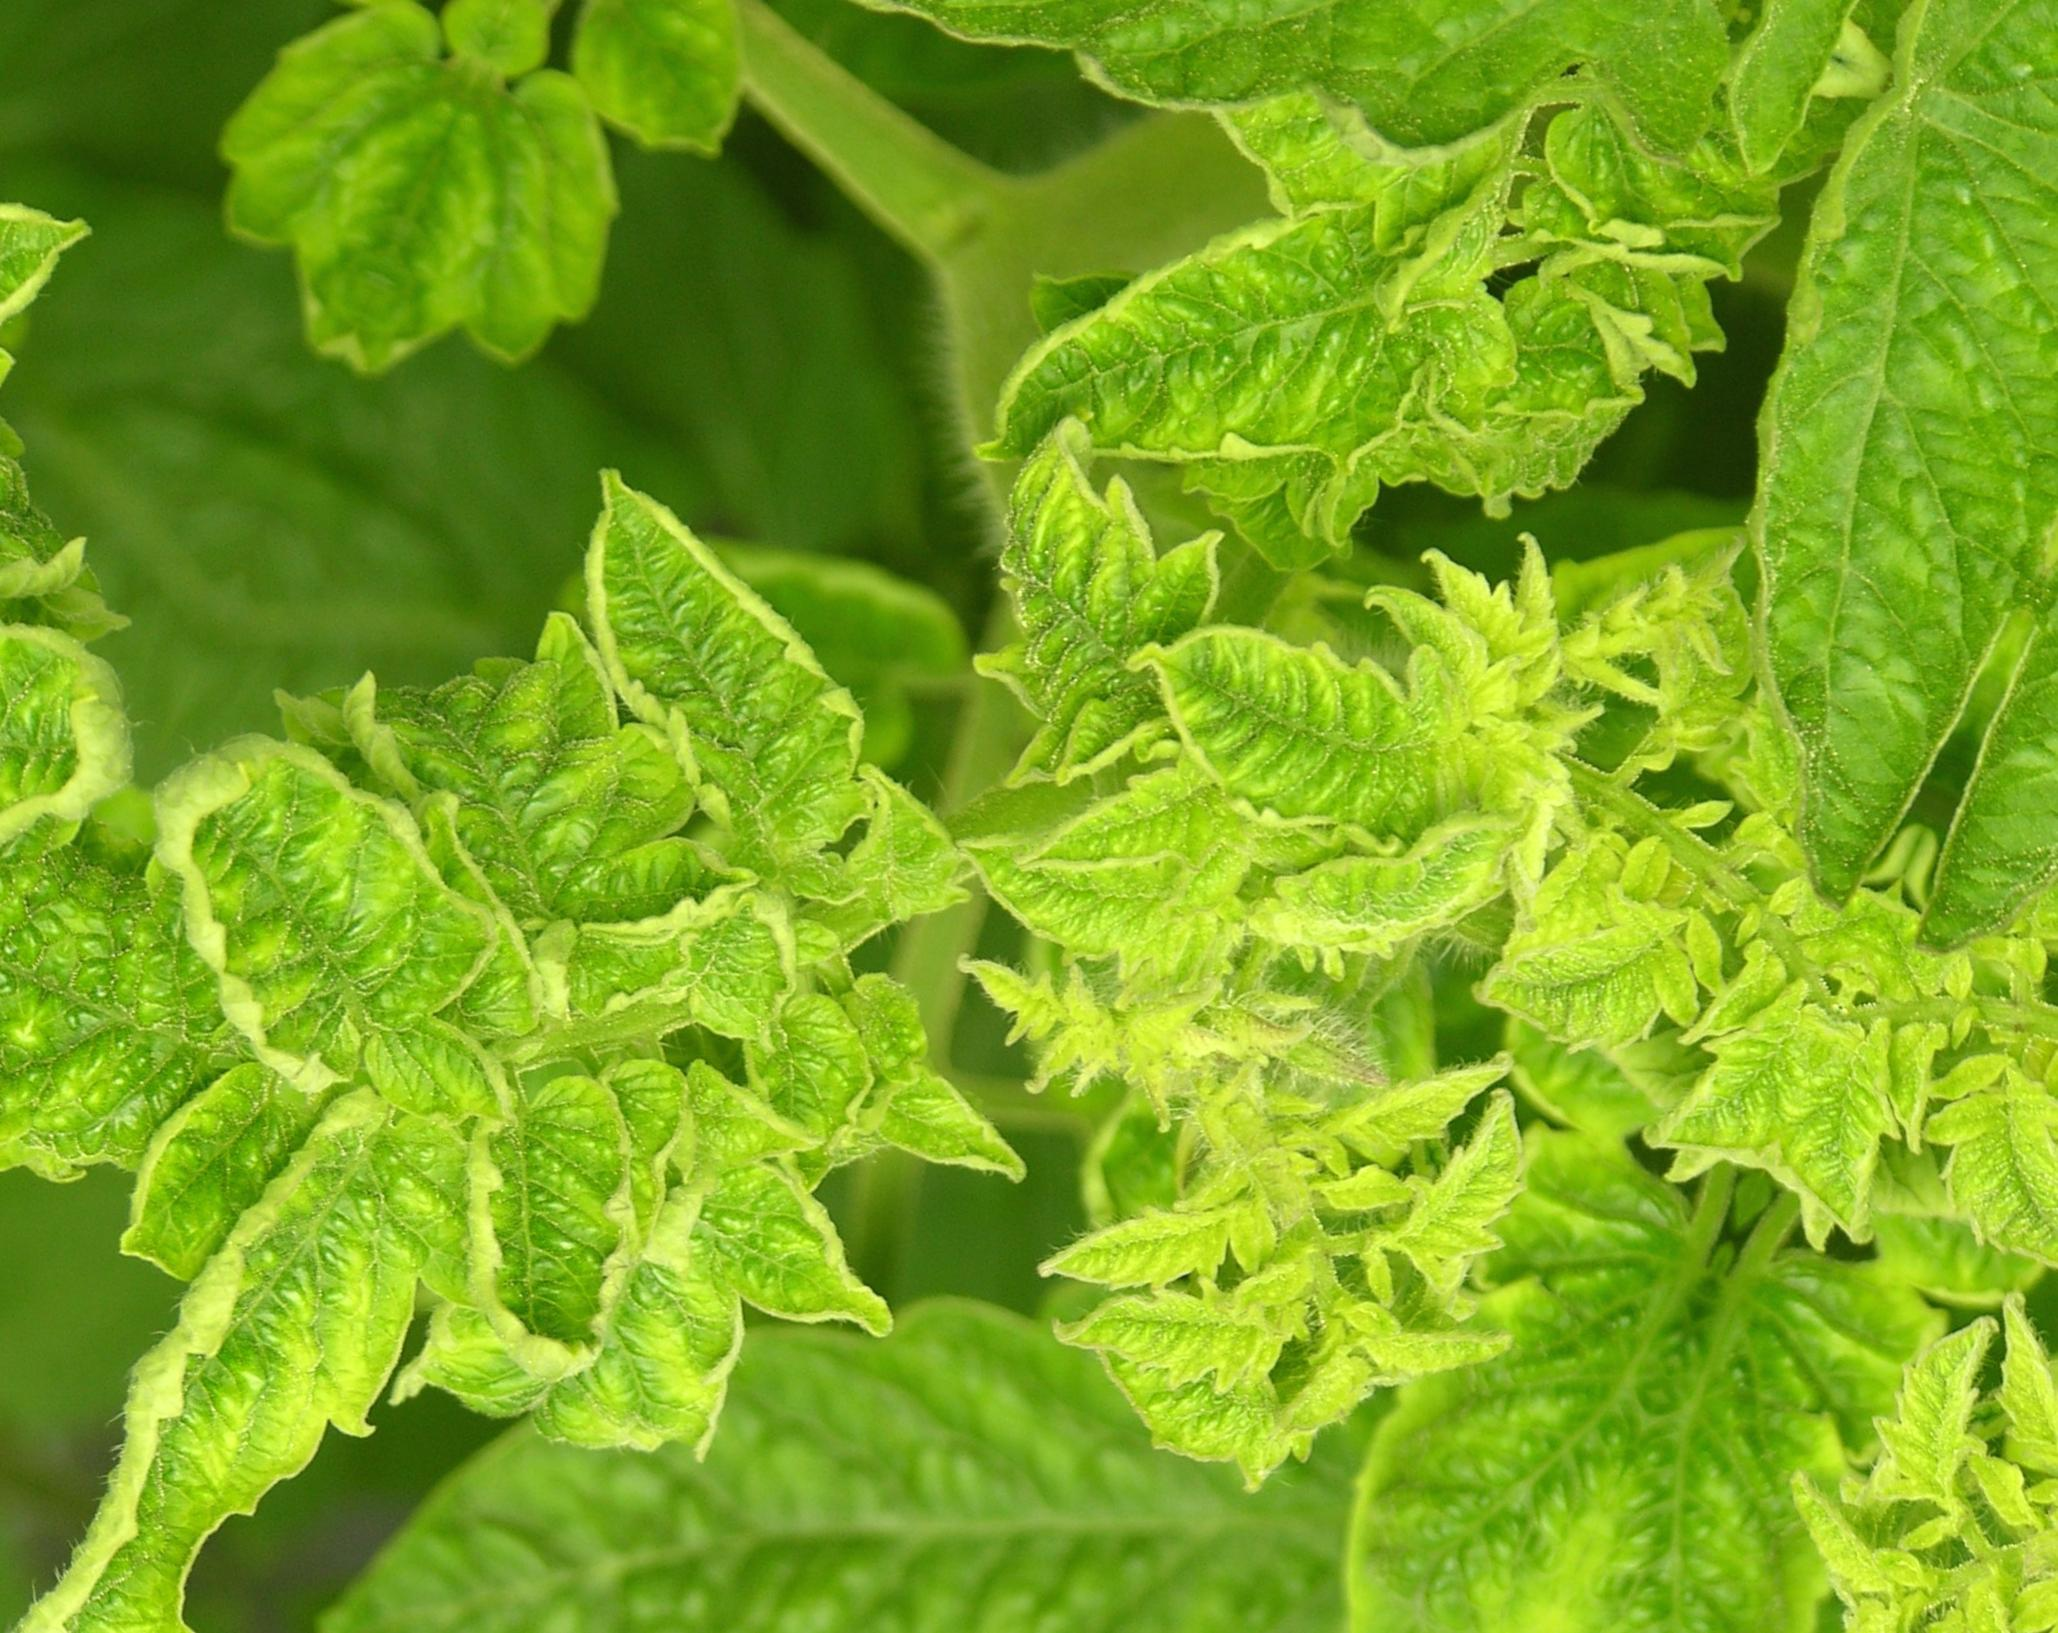Tomato leaf yellow virus: (523, 0, 1799, 476), (1497, 77, 2058, 1037), (922, 52, 1555, 671), (1249, 1015, 1786, 1633), (434, 429, 1011, 942), (55, 1027, 545, 1623), (47, 645, 585, 1165), (357, 960, 765, 1464), (1096, 539, 1508, 917), (0, 882, 322, 1356), (967, 730, 1320, 1092), (1031, 1112, 1270, 1371), (1084, 1246, 1296, 1446)
